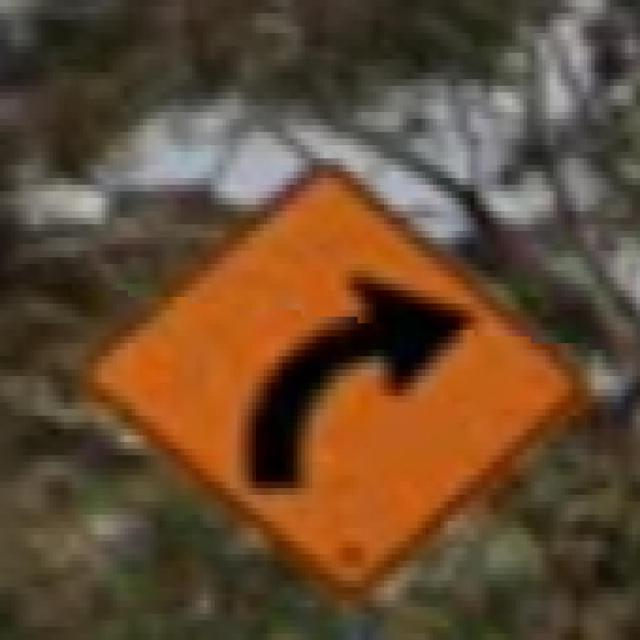Tikungan Ke Kanan: (75, 138, 595, 594)
